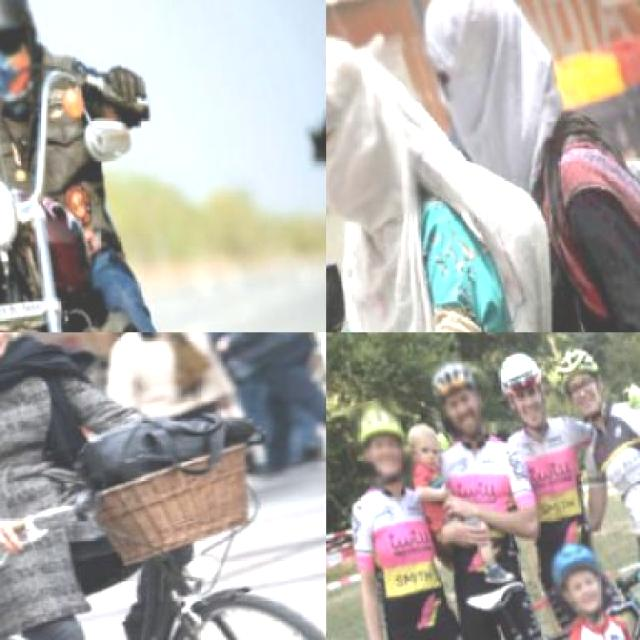With Helmet: (343, 393, 420, 495), (537, 530, 617, 625), (0, 0, 60, 123), (488, 343, 561, 443), (424, 351, 494, 447), (548, 339, 618, 424)
Without Helmet: (326, 2, 439, 246), (401, 0, 567, 155)
